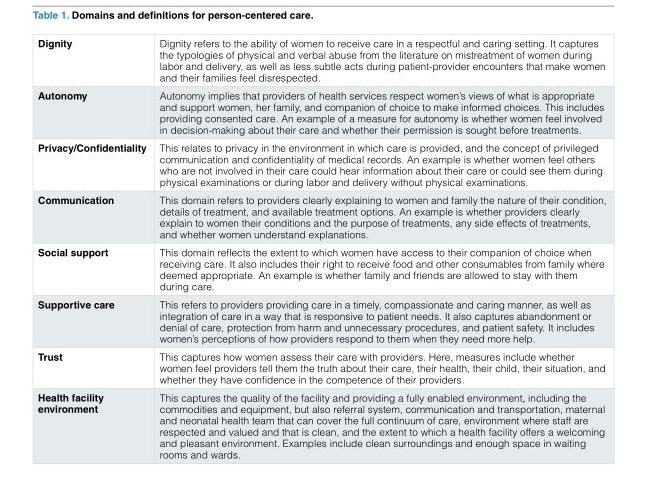table: (37, 36, 605, 459)
table column: (152, 36, 605, 459), (37, 36, 152, 459)
table row: (37, 387, 605, 459), (37, 85, 605, 138), (37, 294, 605, 347), (37, 138, 605, 190), (37, 190, 605, 242), (37, 242, 605, 294), (37, 36, 605, 85), (37, 347, 605, 387)
